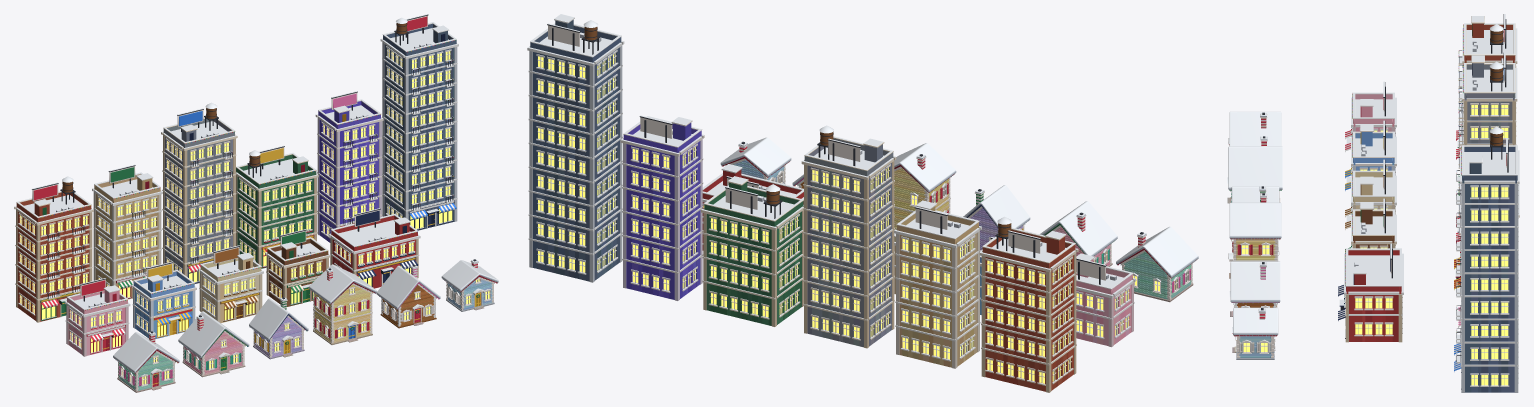
Rendered from Sleighbound_Buildings.glb.
The picture shows the model from 3 angles, left to right: view 1: azimuth 30°, elevation 25°; view 2: azimuth 150°, elevation 25°; view 3: azimuth 270°, elevation 25°; orthographic projection. The views are drawn at different scales.
Visible parts, largest first — view 1: Apartment_Tower_Walls, Apartment_Tower_Trim, Apartment_Grey_Walls, Apartment_Grey_Trim, Apartment_Walls, Apartment_Trim, Apartment_Plum_Walls, Apartment_Plum_Trim, Apartment_Cream_Walls, Apartment_Cream_Trim, Apartment_Green_Walls, Apartment_Green_Trim (+57 smaller); view 2: Apartment_Tower_Walls, Apartment_Tower_Trim, Apartment_Grey_Walls, Apartment_Grey_Trim, Apartment_Plum_Walls, Apartment_Walls, Apartment_Trim, Apartment_Green_Walls, Apartment_Cream_Walls, Apartment_Plum_Trim, Apartment_Cream_Trim, Apartment_Green_Trim (+24 smaller); view 3: Apartment_Tower_Walls, Apartment_Tower_Trim, Apartment_Tower_Glow, PostOffice_Roof, Apartment_Tower_Roof, CandyHouse_Pink_Roof, CandyHouse_Gingerbread_Roof, Apartment_Roof, Apartment_Grey_Roof, CandyHouse_Butter_Roof, CandyHouse_Roof, PostOffice_Walls (+22 smaller).
Boxes of the visible parts, box(x1,y1,x2,y2) form: Apartment_Tower_Walls: box(383, 39, 454, 230); Apartment_Tower_Trim: box(380, 38, 458, 229); Apartment_Grey_Walls: box(164, 129, 232, 283); Apartment_Grey_Trim: box(161, 131, 237, 283); Apartment_Walls: box(16, 207, 89, 321); Apartment_Trim: box(14, 206, 93, 322); Apartment_Plum_Walls: box(318, 115, 378, 242); Apartment_Plum_Trim: box(315, 114, 383, 238); Apartment_Cream_Walls: box(94, 189, 158, 299); Apartment_Cream_Trim: box(92, 188, 162, 298); Apartment_Green_Walls: box(236, 172, 313, 268); Apartment_Green_Trim: box(236, 172, 318, 268); Apartment_Tower_Walls: box(533, 38, 621, 281); Apartment_Tower_Trim: box(527, 40, 624, 282); Apartment_Grey_Walls: box(807, 157, 893, 347); Apartment_Grey_Trim: box(801, 156, 896, 348); Apartment_Plum_Walls: box(626, 133, 701, 299); Apartment_Walls: box(985, 242, 1074, 391); Apartment_Trim: box(979, 248, 1078, 392); Apartment_Green_Walls: box(706, 195, 803, 325); Apartment_Cream_Walls: box(899, 222, 978, 367); Apartment_Plum_Trim: box(620, 134, 704, 300); Apartment_Cream_Trim: box(894, 226, 981, 368); Apartment_Green_Trim: box(701, 205, 803, 326); Apartment_Tower_Walls: box(1462, 180, 1516, 392); Apartment_Tower_Trim: box(1460, 150, 1519, 392); Apartment_Tower_Glow: box(1471, 187, 1508, 385); PostOffice_Roof: box(1345, 243, 1401, 291); Apartment_Tower_Roof: box(1461, 126, 1517, 180); CandyHouse_Pink_Roof: box(1228, 146, 1282, 190); CandyHouse_Gingerbread_Roof: box(1230, 261, 1280, 303); Apartment_Roof: box(1464, 14, 1515, 60); Apartment_Grey_Roof: box(1464, 52, 1515, 98); CandyHouse_Butter_Roof: box(1229, 202, 1281, 239); CandyHouse_Roof: box(1229, 111, 1281, 146); PostOffice_Walls: box(1346, 291, 1401, 341).
Bounding box in the file's own units: 251 × 116 × 126.
